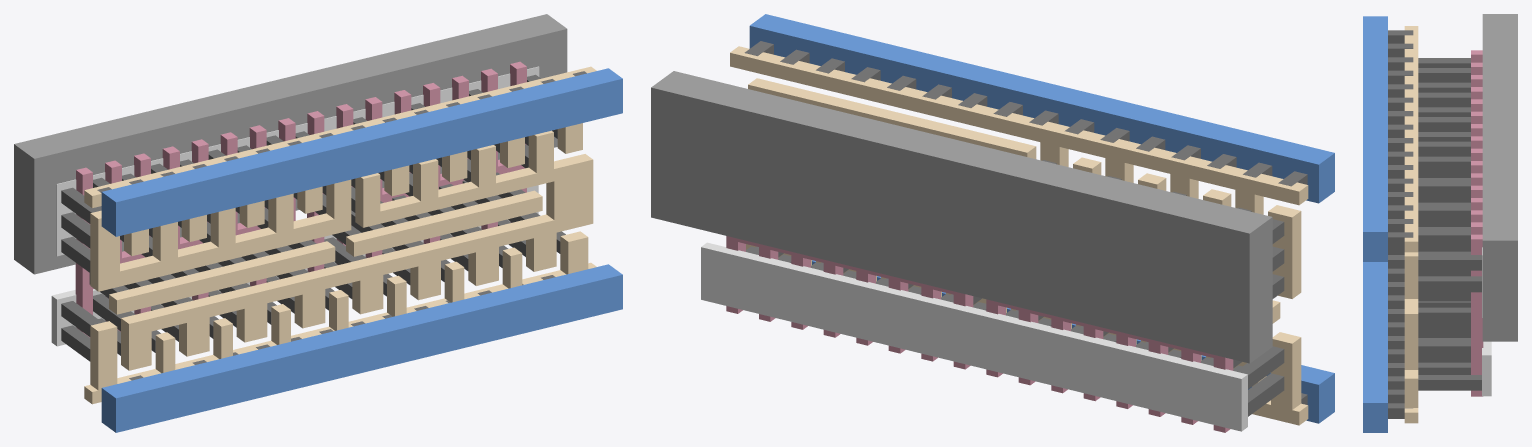
Rendered from sky130_fd_sc_hd__nor2_8.gds.gltf.
3 renders of one model, left to right at view 1: azimuth 30°, elevation 25°; view 2: azimuth 150°, elevation 25°; view 3: azimuth 270°, elevation 25°, orthographic. The views are drawn at different scales.
Parts seen in each view (by area): view 1: sky130_fd_sc_hd__nor2_8_li1, sky130_fd_sc_hd__nor2_8_met1, sky130_fd_sc_hd__nor2_8_nwell, sky130_fd_sc_hd__nor2_8_licon, sky130_fd_sc_hd__nor2_8_poly, sky130_fd_sc_hd__nor2_8_diff, sky130_fd_sc_hd__nor2_8_mcon; view 2: sky130_fd_sc_hd__nor2_8_nwell, sky130_fd_sc_hd__nor2_8_diff, sky130_fd_sc_hd__nor2_8_li1, sky130_fd_sc_hd__nor2_8_met1, sky130_fd_sc_hd__nor2_8_poly, sky130_fd_sc_hd__nor2_8_mcon, sky130_fd_sc_hd__nor2_8_licon; view 3: sky130_fd_sc_hd__nor2_8_licon, sky130_fd_sc_hd__nor2_8_nwell, sky130_fd_sc_hd__nor2_8_met1, sky130_fd_sc_hd__nor2_8_mcon, sky130_fd_sc_hd__nor2_8_li1, sky130_fd_sc_hd__nor2_8_poly, sky130_fd_sc_hd__nor2_8_diff.
Boxes of the visible parts, left/top/right/bottom form: sky130_fd_sc_hd__nor2_8_li1: left=84, top=66, right=596, bottom=404; sky130_fd_sc_hd__nor2_8_met1: left=101, top=68, right=622, bottom=432; sky130_fd_sc_hd__nor2_8_nwell: left=14, top=14, right=567, bottom=274; sky130_fd_sc_hd__nor2_8_licon: left=61, top=74, right=565, bottom=361; sky130_fd_sc_hd__nor2_8_poly: left=75, top=61, right=526, bottom=337; sky130_fd_sc_hd__nor2_8_diff: left=51, top=66, right=539, bottom=346; sky130_fd_sc_hd__nor2_8_mcon: left=97, top=71, right=586, bottom=380; sky130_fd_sc_hd__nor2_8_nwell: left=651, top=71, right=1272, bottom=363; sky130_fd_sc_hd__nor2_8_diff: left=701, top=242, right=1247, bottom=431; sky130_fd_sc_hd__nor2_8_li1: left=730, top=46, right=1308, bottom=425; sky130_fd_sc_hd__nor2_8_met1: left=749, top=14, right=1334, bottom=423; sky130_fd_sc_hd__nor2_8_poly: left=726, top=236, right=1233, bottom=432; sky130_fd_sc_hd__nor2_8_mcon: left=744, top=41, right=1307, bottom=404; sky130_fd_sc_hd__nor2_8_licon: left=746, top=160, right=1284, bottom=416; sky130_fd_sc_hd__nor2_8_licon: left=1418, top=58, right=1481, bottom=390; sky130_fd_sc_hd__nor2_8_nwell: left=1482, top=14, right=1517, bottom=341; sky130_fd_sc_hd__nor2_8_met1: left=1363, top=16, right=1387, bottom=432; sky130_fd_sc_hd__nor2_8_mcon: left=1388, top=30, right=1413, bottom=418; sky130_fd_sc_hd__nor2_8_li1: left=1404, top=26, right=1418, bottom=423; sky130_fd_sc_hd__nor2_8_poly: left=1471, top=50, right=1483, bottom=396; sky130_fd_sc_hd__nor2_8_diff: left=1482, top=247, right=1491, bottom=396.
Size of the model in its own units: 7.74 by 3.2 by 2.24.
